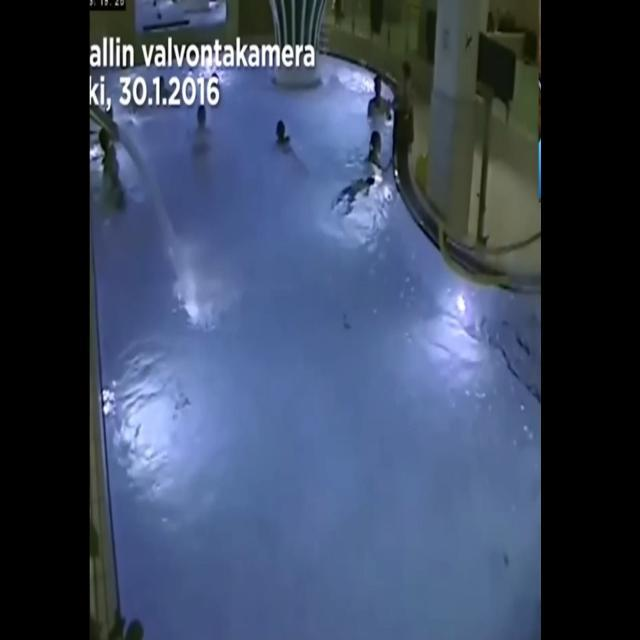Out of Water: (330, 158, 379, 226)
drowning: (264, 105, 300, 165), (184, 100, 218, 150), (362, 129, 392, 172), (362, 74, 394, 113)
